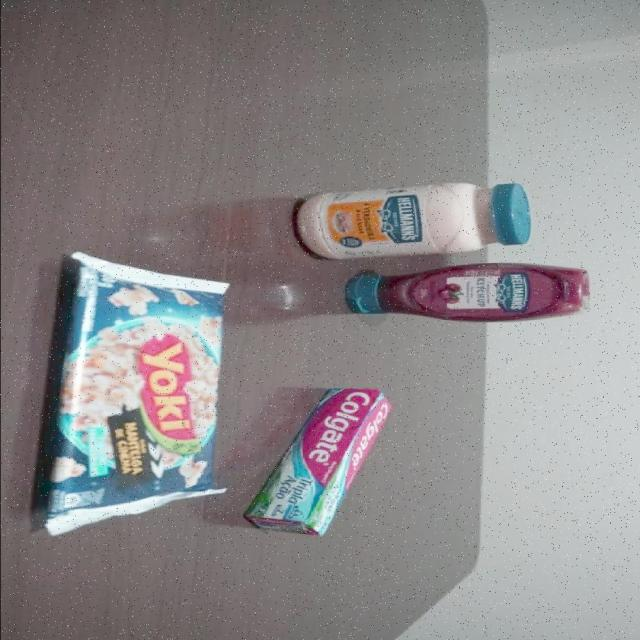Ketchup: (344, 263, 589, 324)
Mayonnaise: (298, 182, 531, 258)
Popcorn: (39, 250, 229, 535)
Toothpaste: (246, 388, 393, 537)
